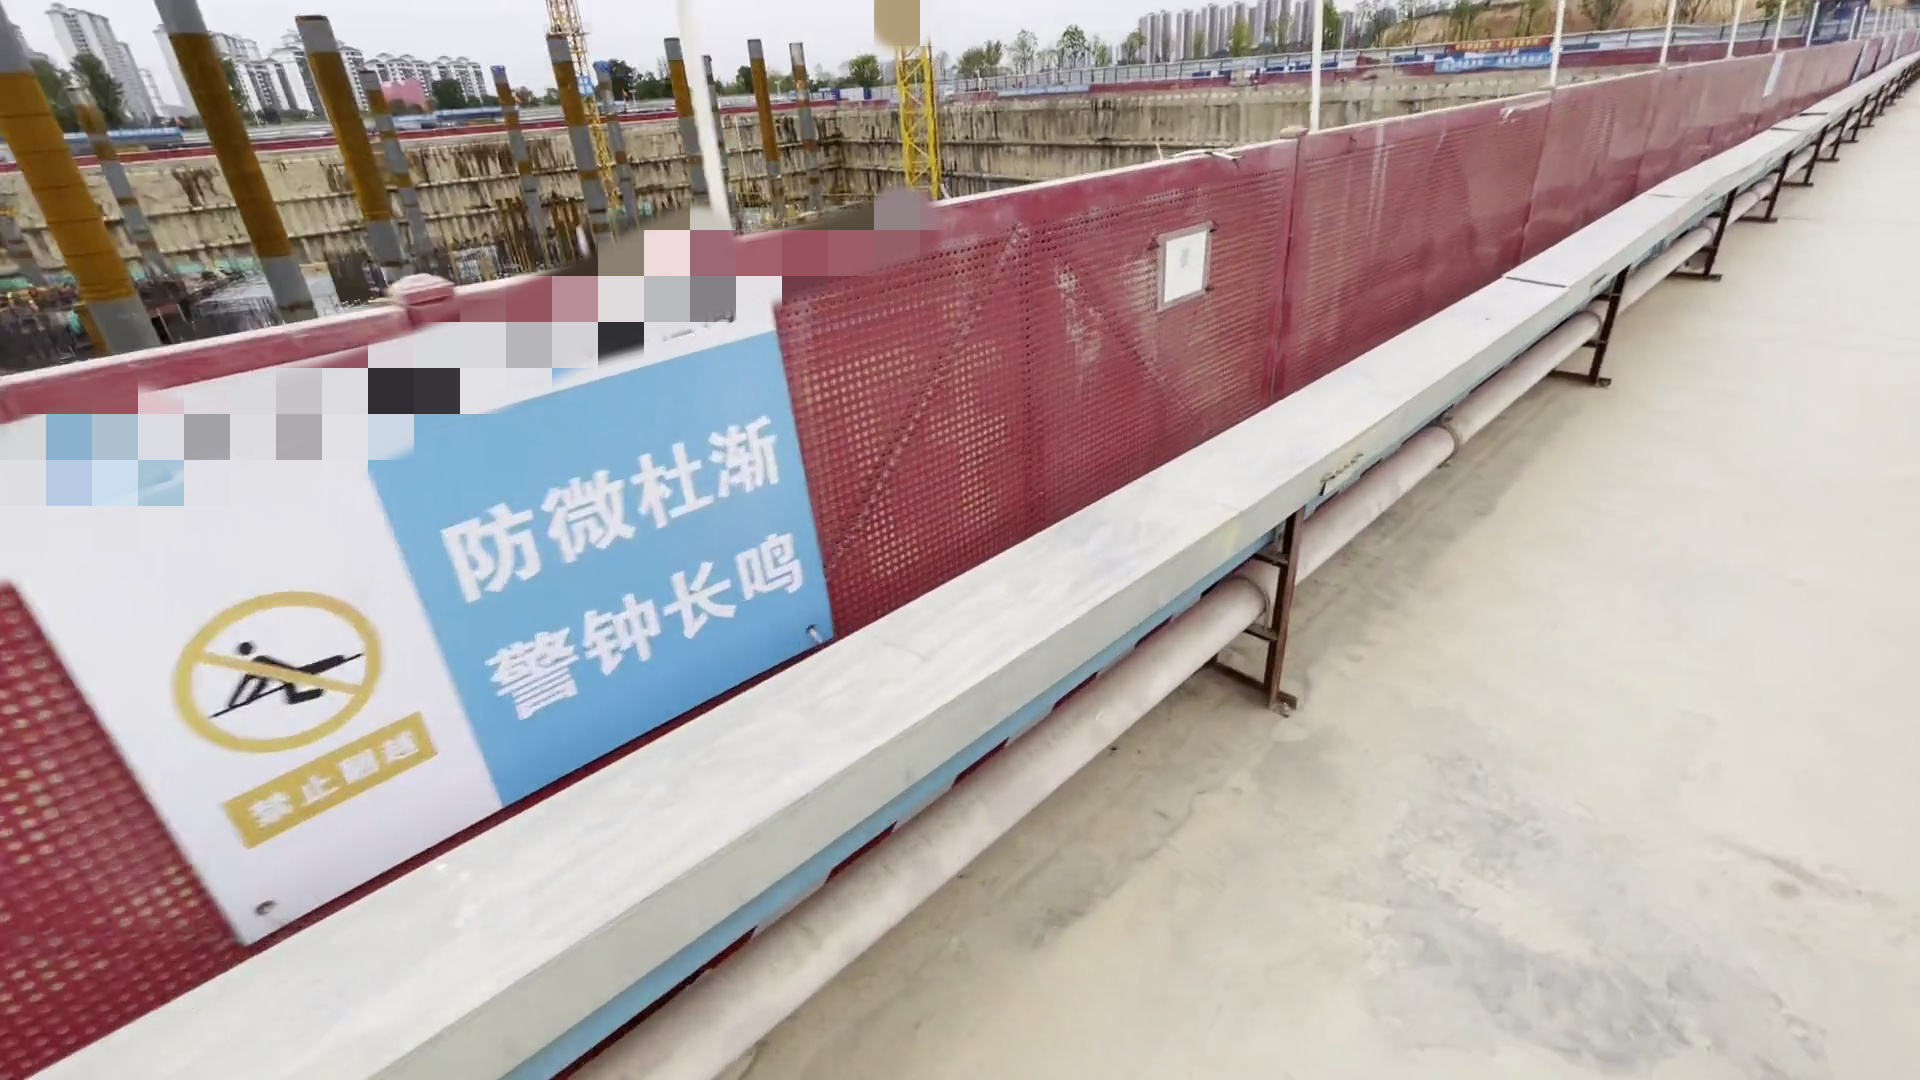fence: (1, 32, 1876, 1080)
slogan: (435, 386, 808, 713)
